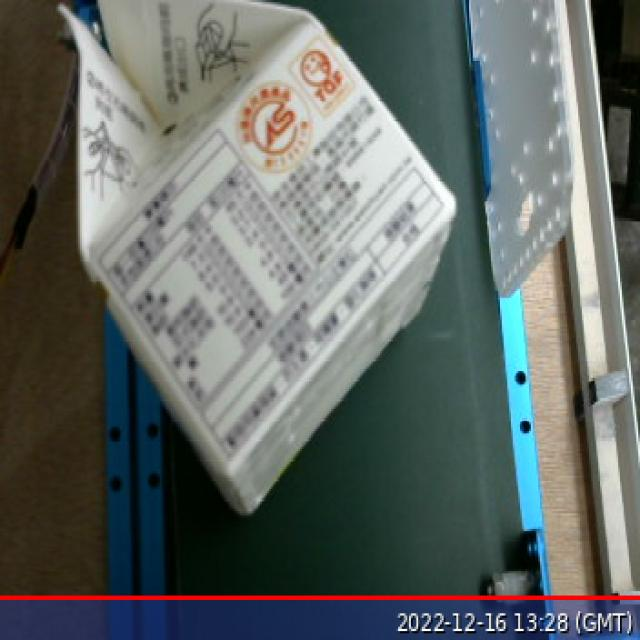non_white_jug: (46, 0, 470, 527)
